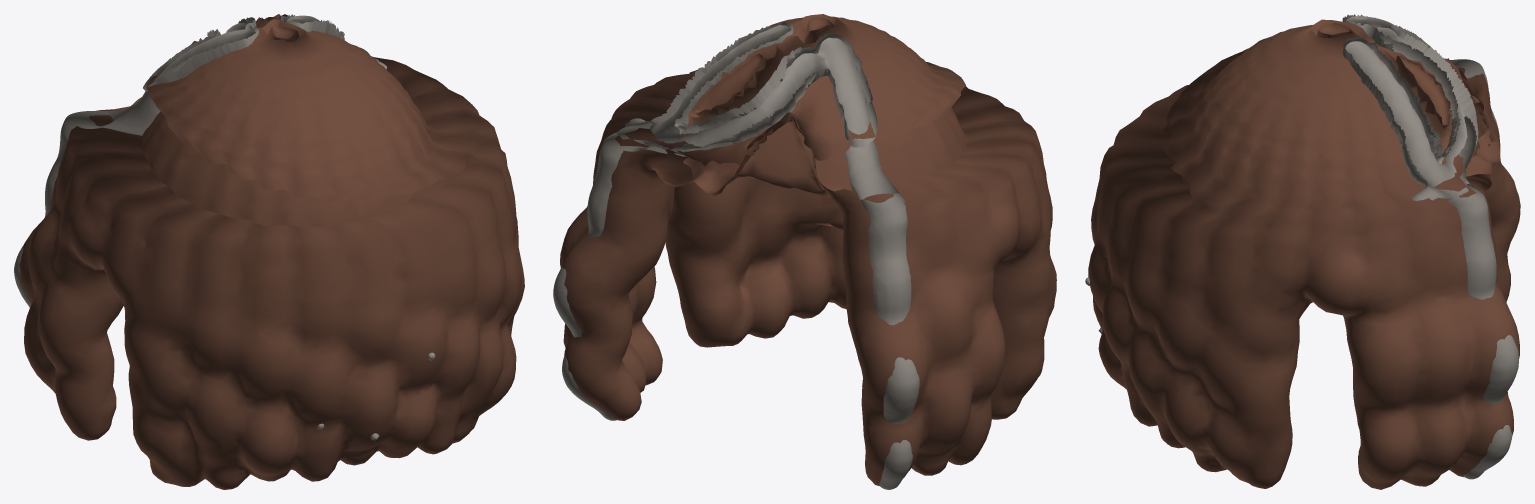
Rendered from hair_bob_m.glb.
3 views of the same model, side by side, from view 1: azimuth 30°, elevation 25°; view 2: azimuth 150°, elevation 25°; view 3: azimuth 270°, elevation 25° (orthographic).
Parts seen in each view (by area): view 1: Acc_hair_bob_HairBob, Acc_hair_bob_HairBobGrey; view 2: Acc_hair_bob_HairBob, Acc_hair_bob_HairBobGrey; view 3: Acc_hair_bob_HairBob, Acc_hair_bob_HairBobGrey.
Boxes of the visible parts, x1,y1,x2,y2 form: Acc_hair_bob_HairBob: [19, 14, 524, 489]; Acc_hair_bob_HairBobGrey: [14, 14, 435, 440]; Acc_hair_bob_HairBob: [560, 14, 1056, 485]; Acc_hair_bob_HairBobGrey: [553, 22, 919, 489]; Acc_hair_bob_HairBob: [1088, 19, 1520, 489]; Acc_hair_bob_HairBobGrey: [1085, 14, 1518, 479].
Size of the model in its own units: 0.484 by 0.4252 by 0.4318.
